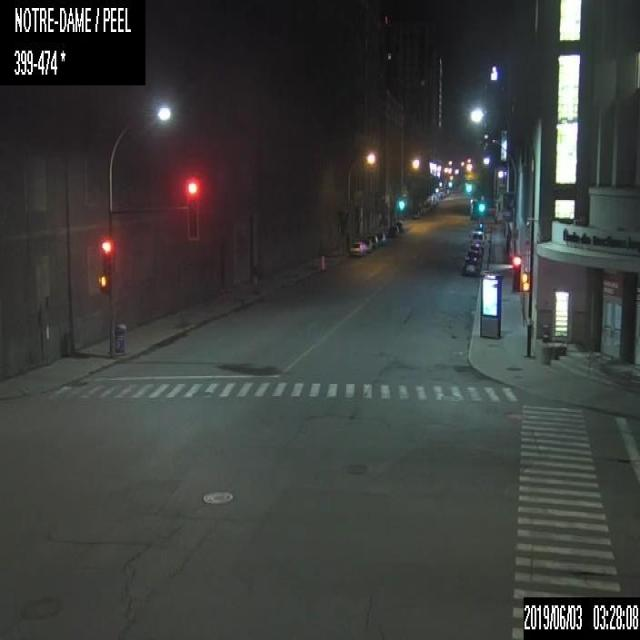vehicle: (462, 255, 480, 275), (469, 228, 484, 248), (348, 240, 364, 257), (356, 237, 372, 252), (468, 241, 481, 257), (371, 231, 385, 245), (364, 233, 377, 247)
